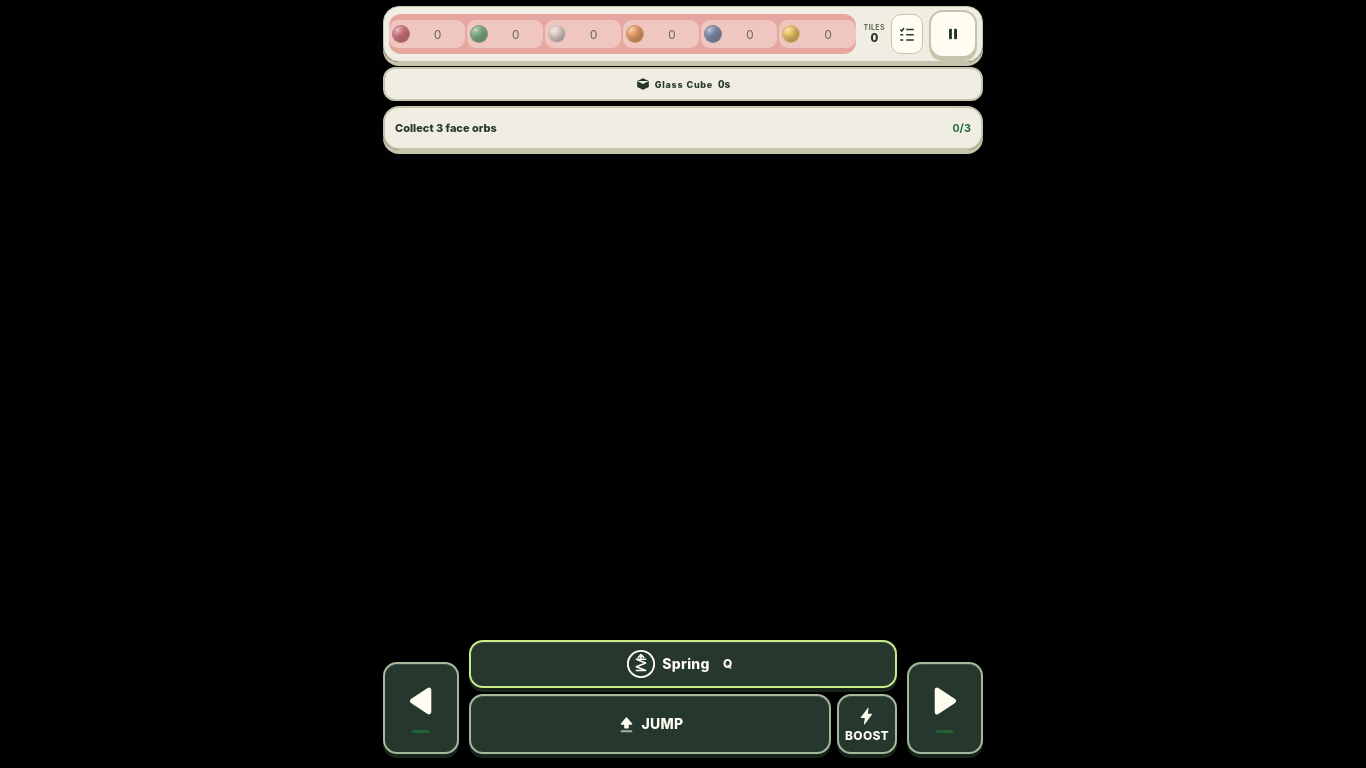
Test: opens view-pickup information from its bubble and resumes on dismissal
Click the button with class "worm-buff-chip".
click(683, 84)  # box [383,67,983,101]
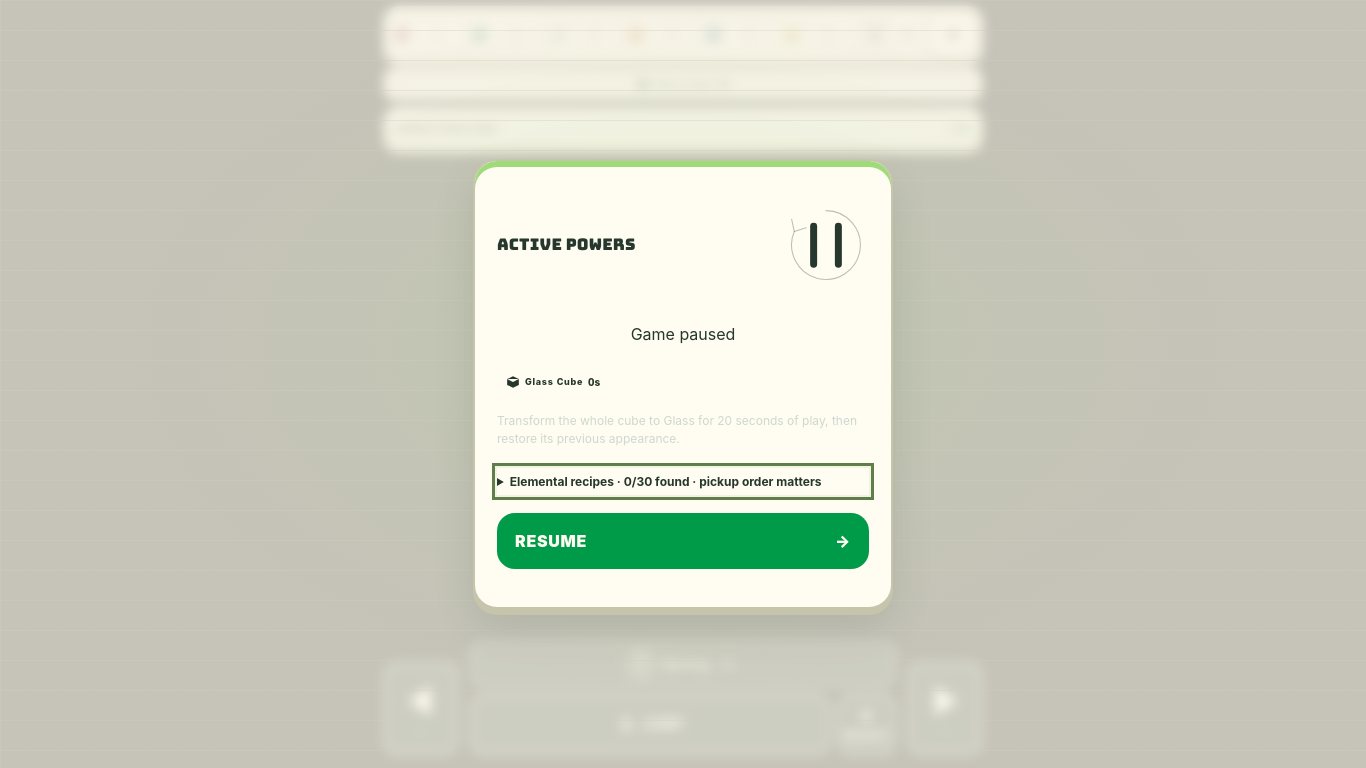
Result: the dialog with class "worm-power-info" shows "Glass Cube" at [497,360,869,404]
Click the element that starts with "Active powers".
click(82, 384)  # box [0,0,1365,767]
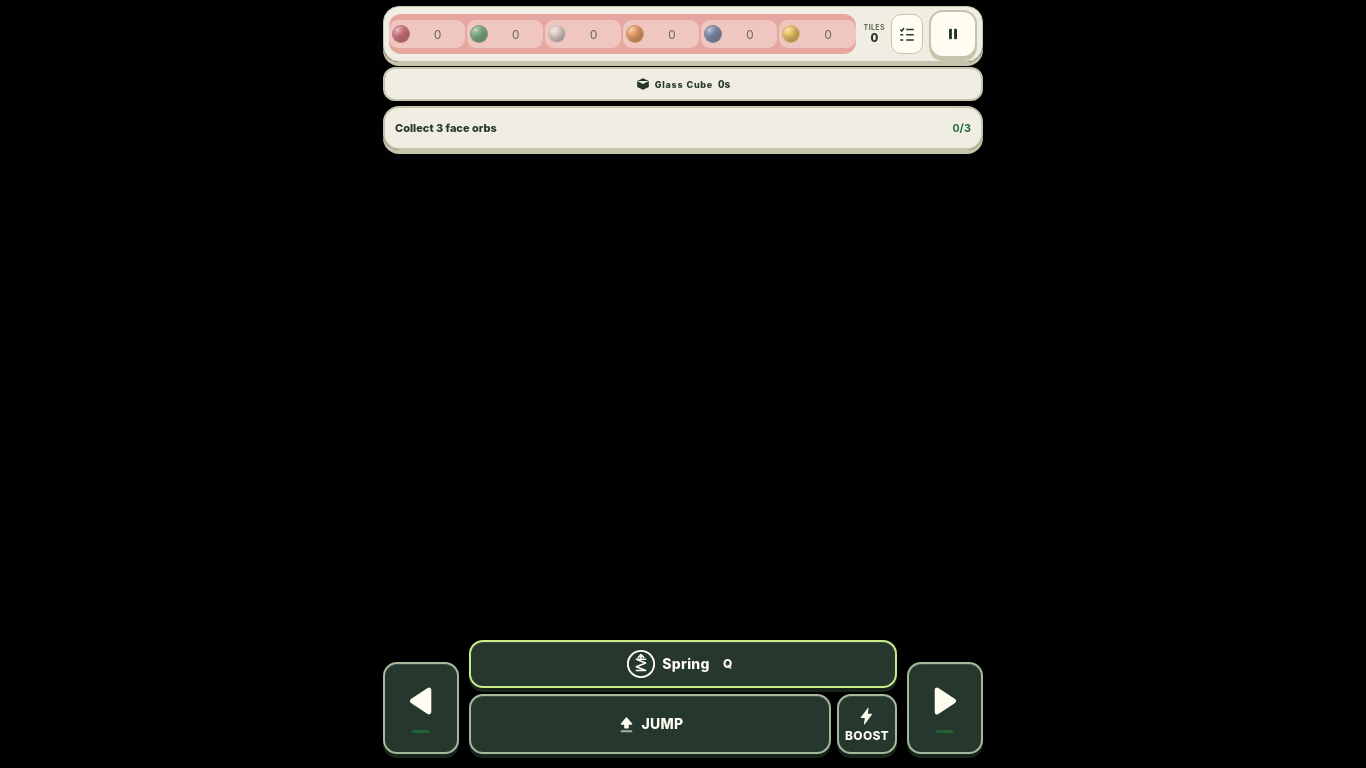
Result: the dialog is gone
